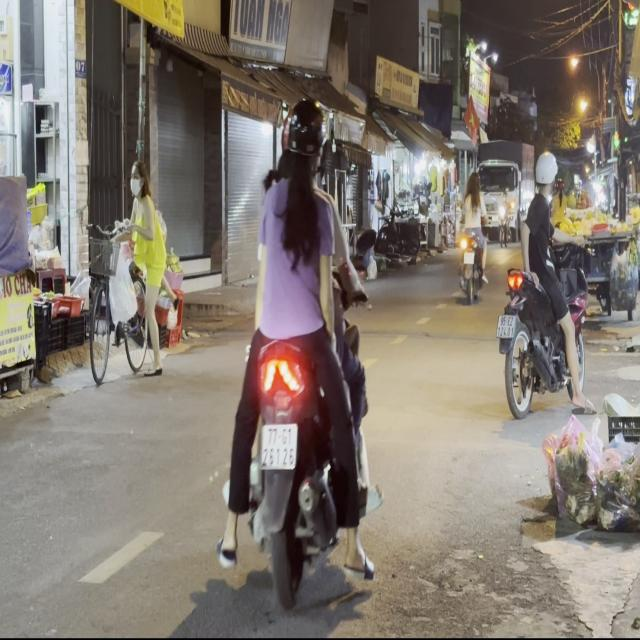helmet: (279, 97, 325, 179), (533, 150, 558, 193)
licenseplate: (217, 92, 382, 615), (495, 147, 593, 418)
nohelmet: (260, 424, 296, 467), (497, 314, 518, 337)
